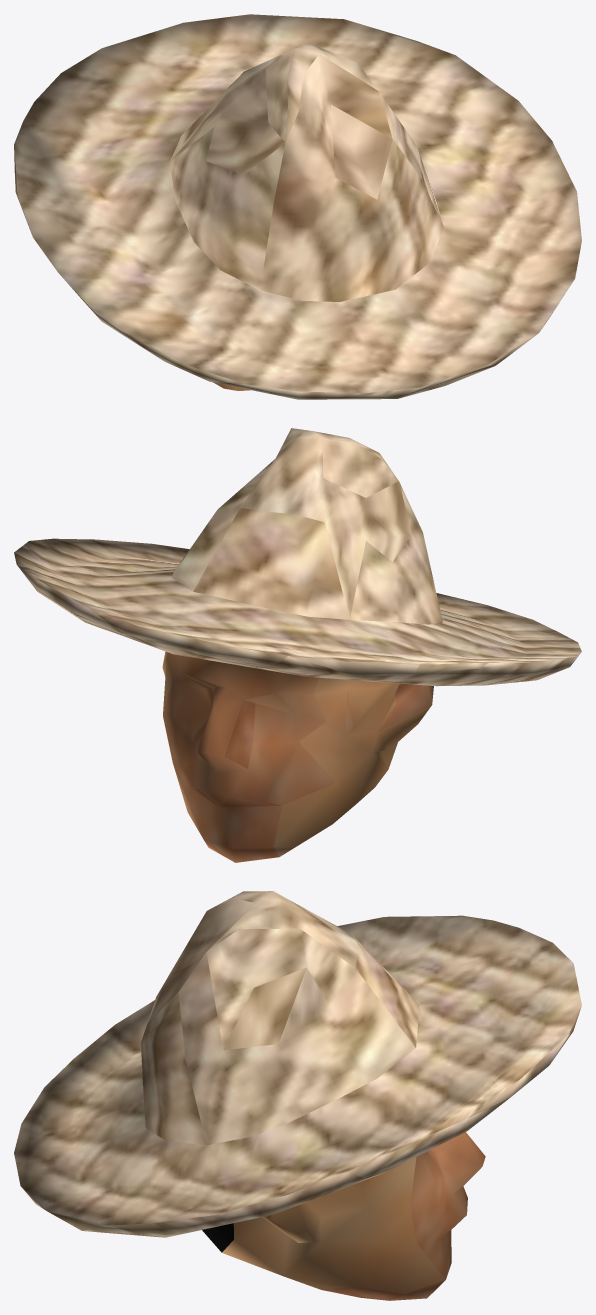
The model's file is cabeza.obj.
3 renders of one model, top to bottom at view 1: azimuth 30°, elevation 25°; view 2: azimuth 150°, elevation 25°; view 3: azimuth 270°, elevation 25°, orthographic. The views are drawn at different scales.
Parts seen in each view (by area): view 1: model.031; view 2: model.031; view 3: model.031.
Part boxes in pixels (x1,y1,x2,y2): model.031: [14, 14, 581, 399]; model.031: [14, 428, 581, 862]; model.031: [14, 891, 581, 1300].
Size of the model in its own units: 0.1248 by 0.0893 by 0.117.
Materials: 3 (3 with a texture image).
